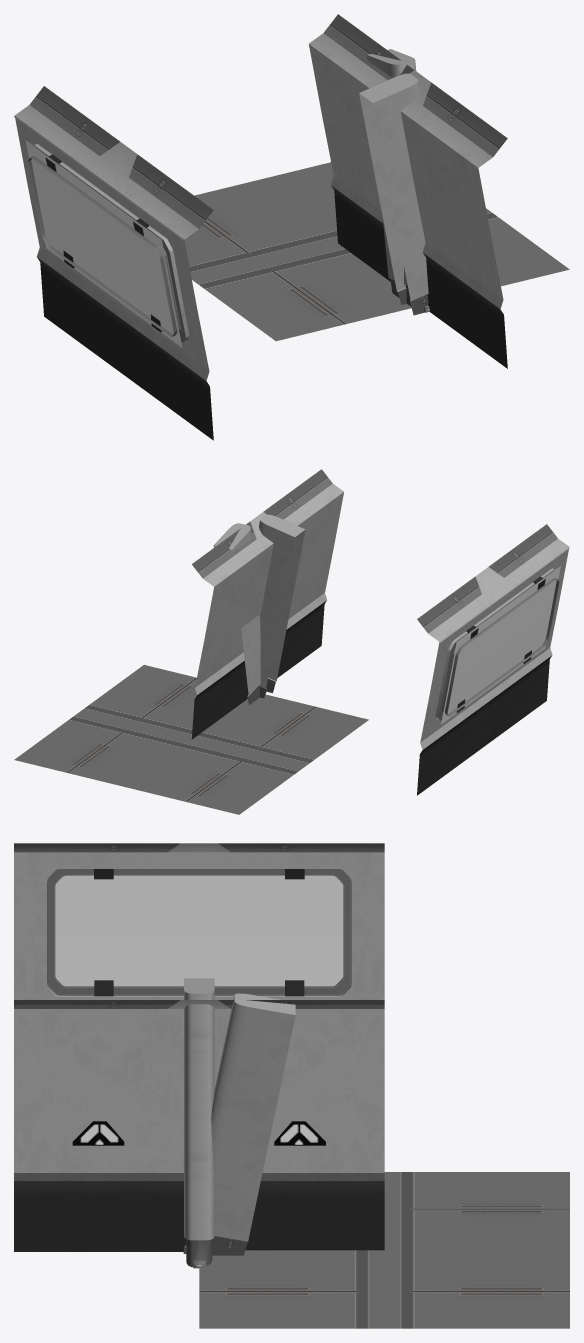
Rendered from bg_scifi_citadel_wall.glb.
The picture shows the model from 3 angles, top to bottom: view 1: azimuth 30°, elevation 25°; view 2: azimuth 150°, elevation 25°; view 3: azimuth 270°, elevation 25°; orthographic projection. The views are drawn at different scales.
Parts seen in each view (by area): view 1: WallAstra_Straight_Window, WallAstra_Straight, Platform_Metal, Column_Astra; view 2: Platform_Metal, WallAstra_Straight_Window, WallAstra_Straight, Column_Astra; view 3: WallAstra_Straight, WallAstra_Straight_Window, Platform_Metal, Column_Astra.
Boxes of the visible parts, <box> form: WallAstra_Straight_Window: <box>14,86,213,440</box>; WallAstra_Straight: <box>309,14,507,368</box>; Platform_Metal: <box>184,162,569,341</box>; Column_Astra: <box>367,49,429,312</box>; Platform_Metal: <box>14,665,368,814</box>; WallAstra_Straight_Window: <box>417,524,569,795</box>; WallAstra_Straight: <box>191,469,343,739</box>; Column_Astra: <box>213,523,266,705</box>; WallAstra_Straight: <box>14,978,384,1268</box>; WallAstra_Straight_Window: <box>14,843,384,999</box>; Platform_Metal: <box>199,1172,569,1328</box>; Column_Astra: <box>183,993,295,1255</box>.
Size of the model in its own units: 6.5 by 3.03 by 6.
14 materials, 13 textured.
